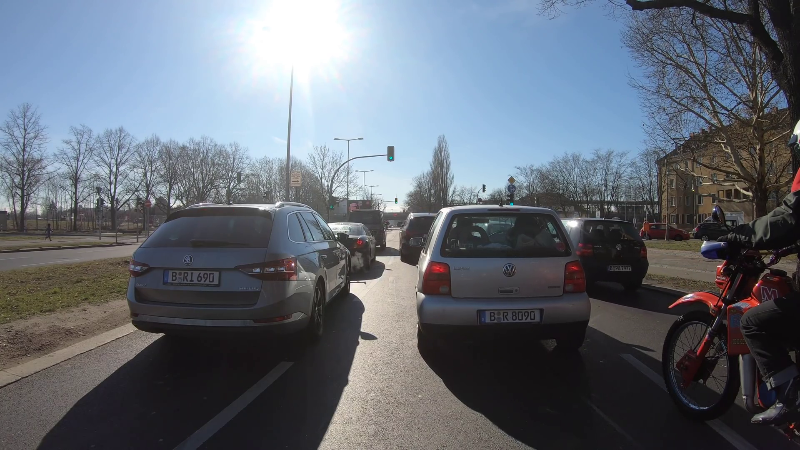Plate: (162, 268, 223, 288), (478, 309, 541, 325), (604, 262, 633, 274)
